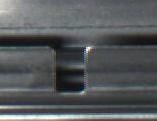oneu: (42, 41, 98, 98)
